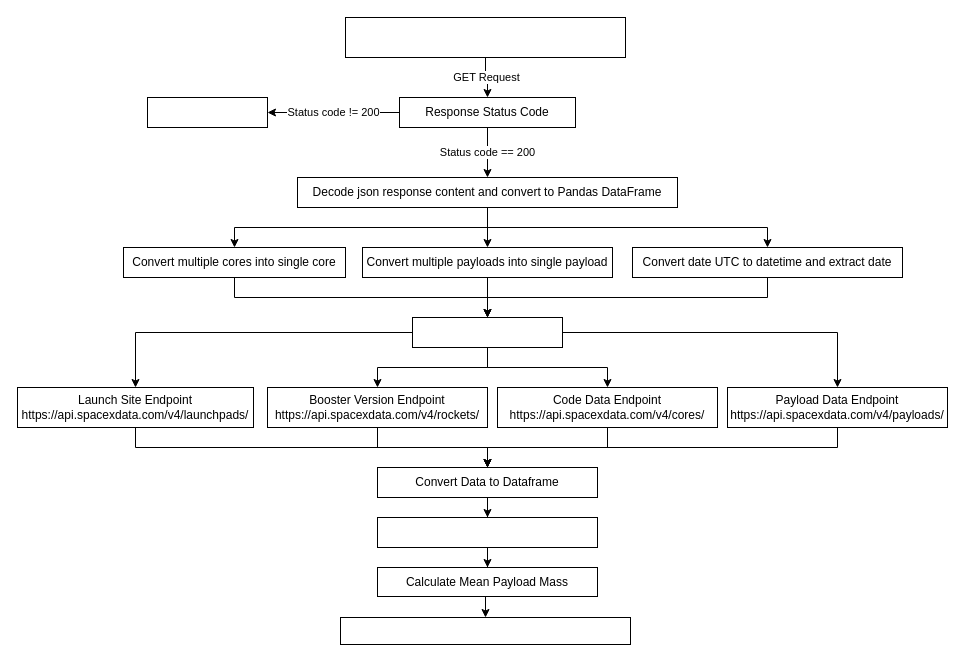
Image size: 965x662. Some labels were removed from this diagram. Each missing label, with the centre of its shape:
API Endpoint https://api.spacexdata.com/v4/launches/past: [485,37]
Filter Booster Version for "Falcon 9": [487,532]
Get extra information: [487,332]
Replace Missing Payload Mass with the Mean: [485,630]
Try again: [207,112]
